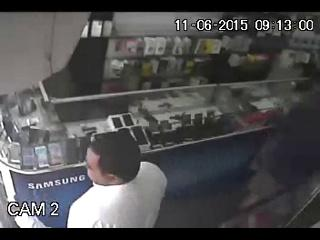Normal: (66, 126, 172, 228)
